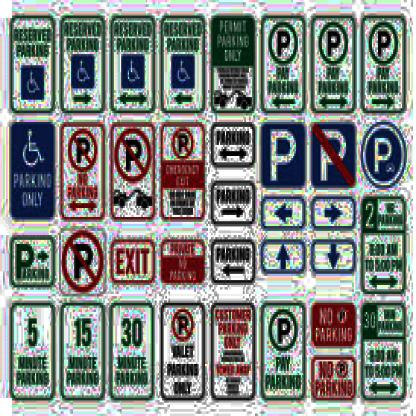Parking: (359, 122, 407, 186), (264, 122, 300, 191), (319, 17, 357, 65), (268, 303, 302, 353), (368, 20, 400, 63), (266, 17, 294, 64)
